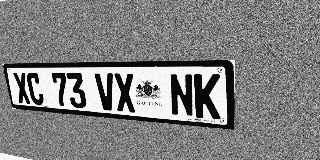3: (66, 73, 87, 109)
7: (50, 73, 71, 107)
C: (25, 73, 45, 105)
K: (194, 74, 220, 119)
N: (169, 74, 194, 117)
V: (94, 73, 117, 111)
X: (113, 73, 136, 113), (12, 73, 31, 104)
